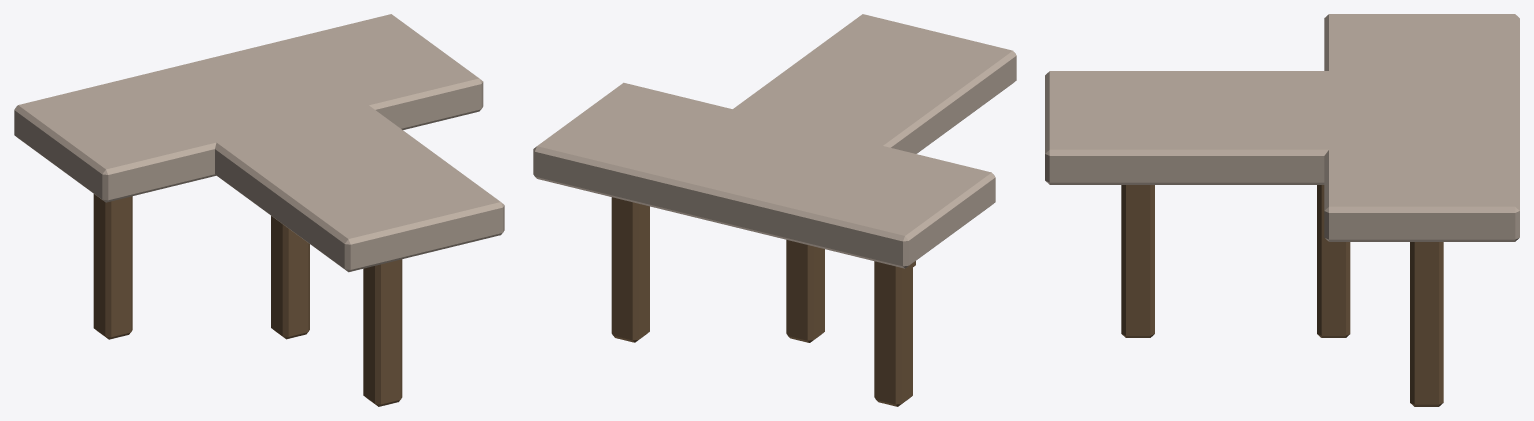
The model's file is t_table.lod1.glb.
3 views of the same model, side by side, from view 1: azimuth 30°, elevation 25°; view 2: azimuth 150°, elevation 25°; view 3: azimuth 270°, elevation 25° (orthographic). The views are drawn at different scales.
Bounding box in the file's own units: 1.8 × 0.95 × 1.84.
